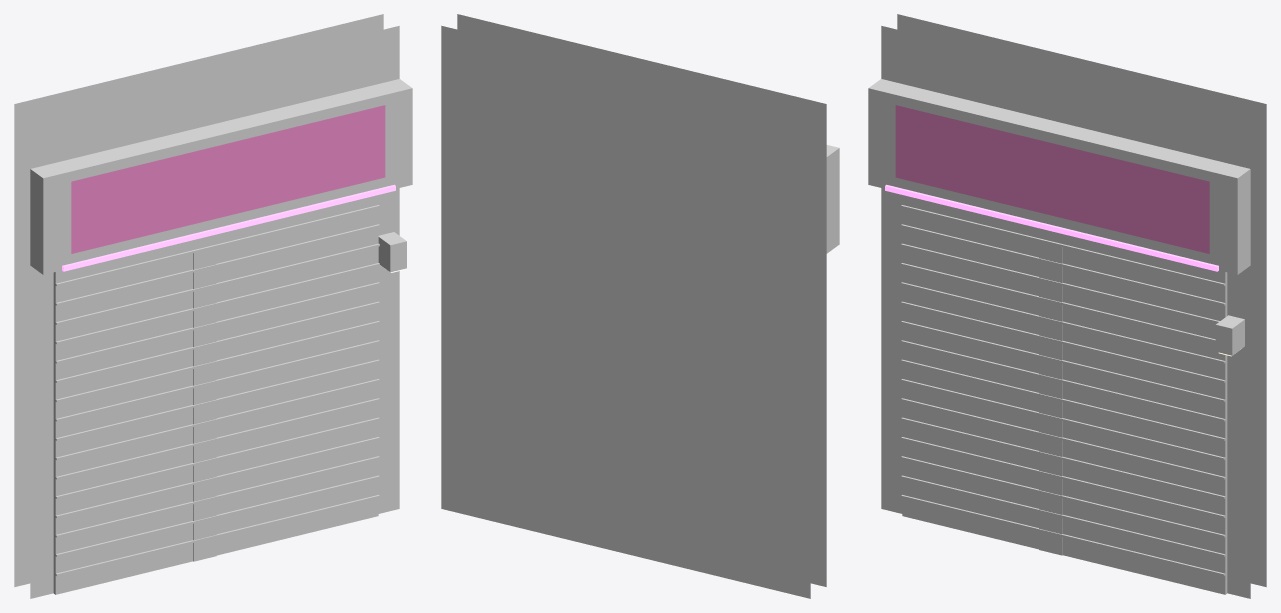
The model's file is OCK_Bay_Storefront_B.fbx.
3 renders of one model, left to right at view 1: azimuth 30°, elevation 25°; view 2: azimuth 150°, elevation 25°; view 3: azimuth 330°, elevation 25°, orthographic.
Parts seen in each view (by area): view 1: OCK_Bay_Storefront_B; view 2: OCK_Bay_Storefront_B; view 3: OCK_Bay_Storefront_B.
Part boxes in pixels (box(x1,y1,x2,y2)): OCK_Bay_Storefront_B: box(14, 14, 412, 598); OCK_Bay_Storefront_B: box(441, 14, 839, 598); OCK_Bay_Storefront_B: box(868, 14, 1266, 598).
Size of the model in its own units: 400 by 500 by 57.5.
